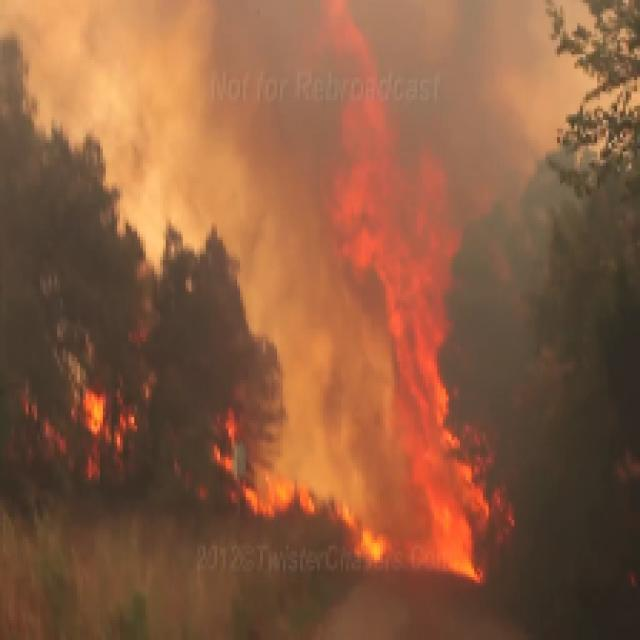Fire: (294, 9, 540, 598), (14, 352, 317, 514)
Smoke: (6, 0, 388, 340)
